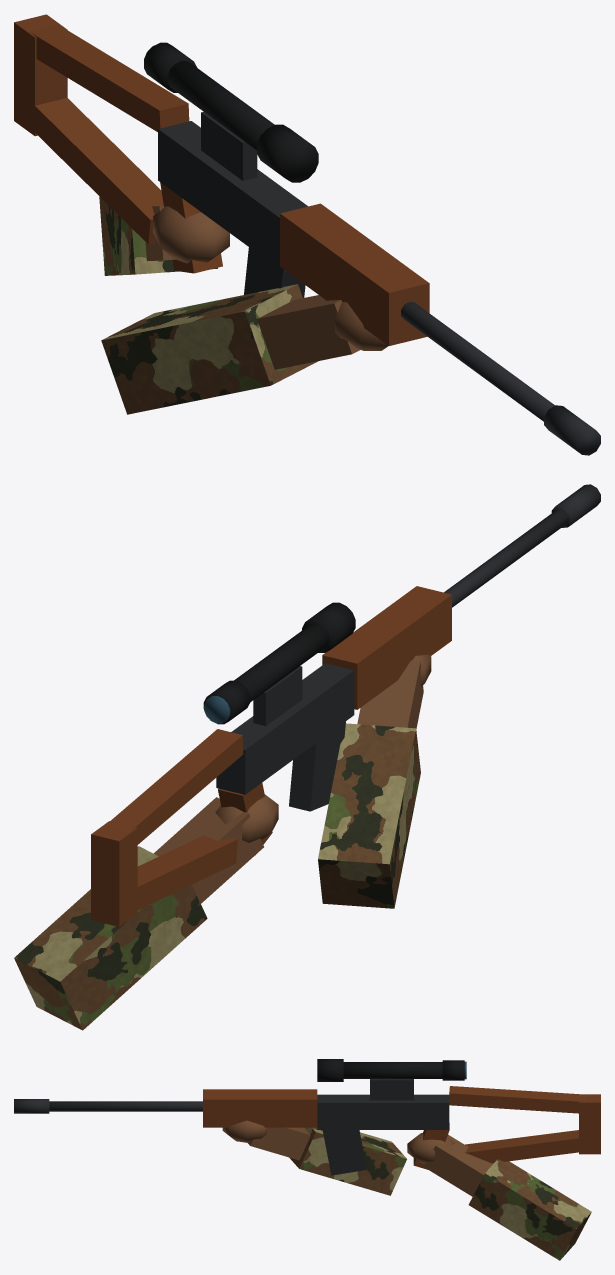
Rendered from fp_svd.glb.
The picture shows the model from 3 angles, top to bottom: view 1: azimuth 30°, elevation 25°; view 2: azimuth 150°, elevation 25°; view 3: azimuth 270°, elevation 25°; orthographic projection. The views are drawn at different scales.
Parts seen in each view (by area): view 1: Weapon; view 2: Weapon; view 3: Weapon.
Part boxes in pixels (<box>): Weapon: <box>14,14,600,455</box>; Weapon: <box>14,484,600,1030</box>; Weapon: <box>14,1059,600,1260</box>.
Size of the model in its own units: 0.3538 by 0.428 by 1.34.
6 materials, 1 textured.
